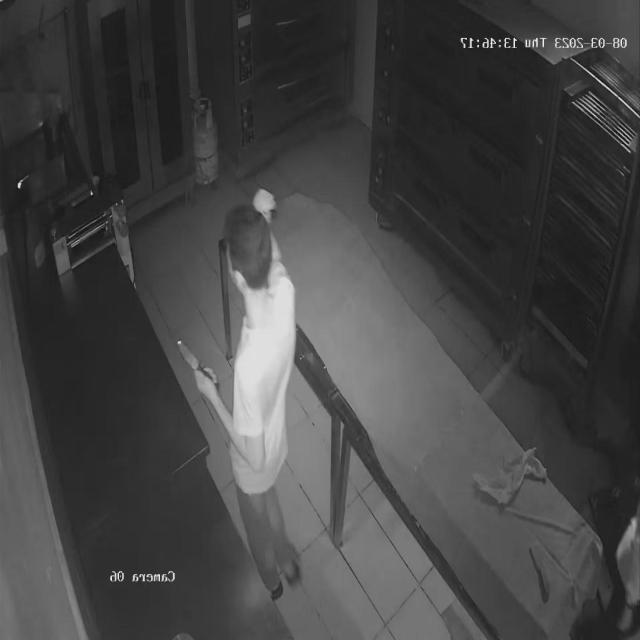Knife: (225, 160, 274, 206)
